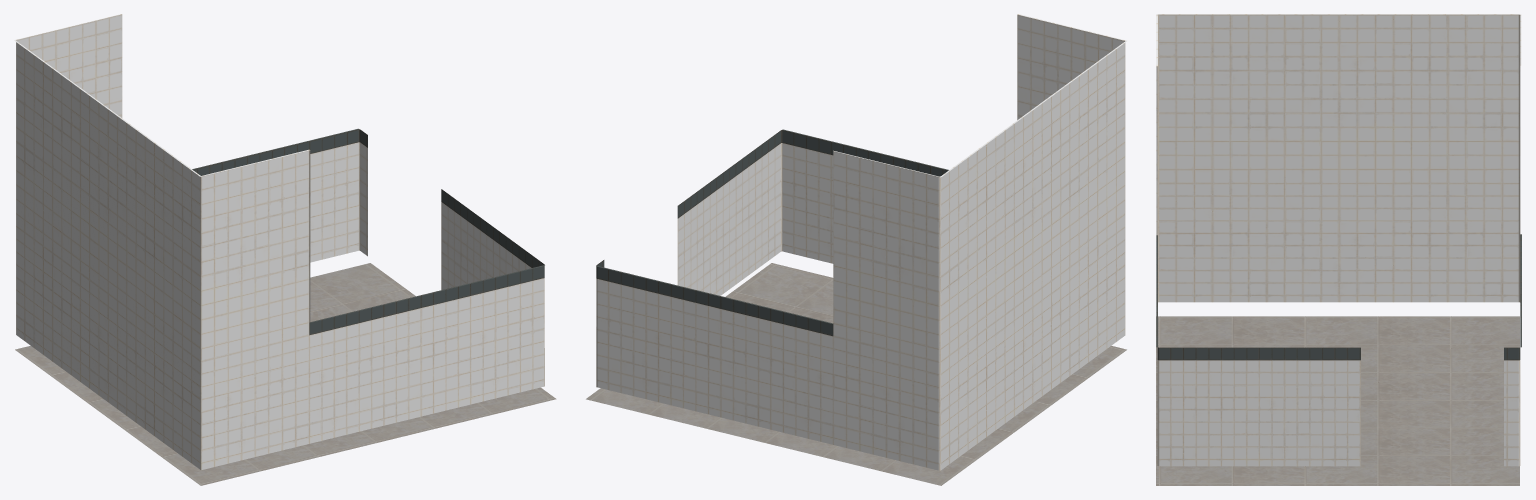
File: SM_BathDecor_B.fbx
The picture shows the model from 3 angles, left to right: view 1: azimuth 30°, elevation 25°; view 2: azimuth 150°, elevation 25°; view 3: azimuth 270°, elevation 25°; orthographic projection. The views are drawn at different scales.
Visible parts, largest first — view 1: SM_BathDecor_B; view 2: SM_BathDecor_B; view 3: SM_BathDecor_B.
Boxes of the visible parts, bbox=[...] form: SM_BathDecor_B: bbox=[14, 14, 556, 485]; SM_BathDecor_B: bbox=[586, 14, 1126, 485]; SM_BathDecor_B: bbox=[1156, 14, 1521, 485].
Bounding box in the file's own units: 296 × 269 × 245.
3 materials, 3 textured.
